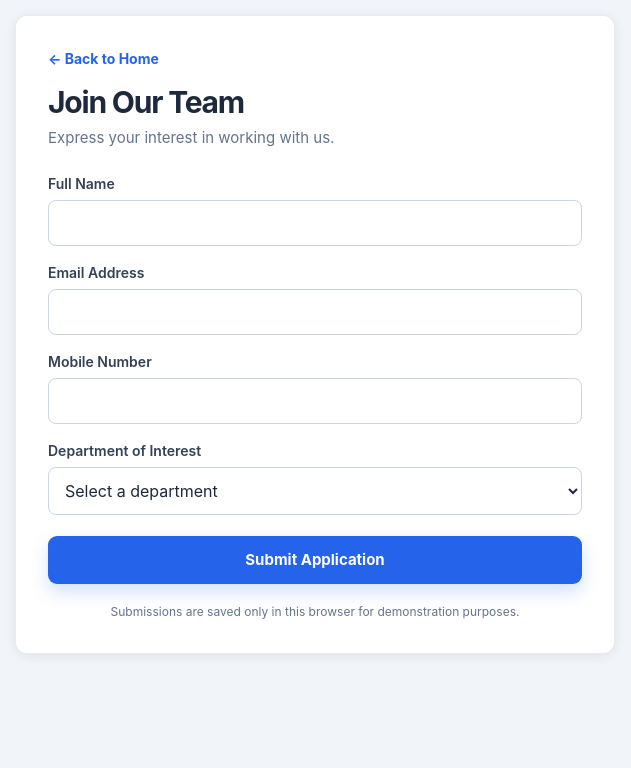
Scenario: candidate interest form › associates required-field errors with each invalid control and retains the draft
Click the button "Submit Application". click: coordinates (315, 560)
box: [48,536,582,584]
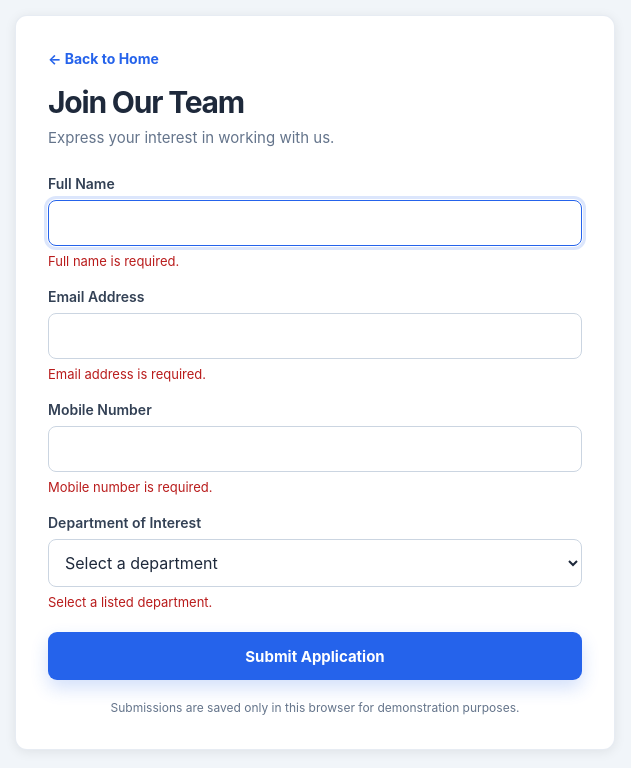
Now the text "Email address is required." is shown, box [48,366,206,382]
Now the text "Mobile number is required." is shown, box [48,479,213,495]
Now the text "Select a listed department." is shown, box [48,594,212,610]
Type "Jordan Lee" into the field labelled "Full Name". click: coordinates (315, 222)
box: [48,200,582,246]
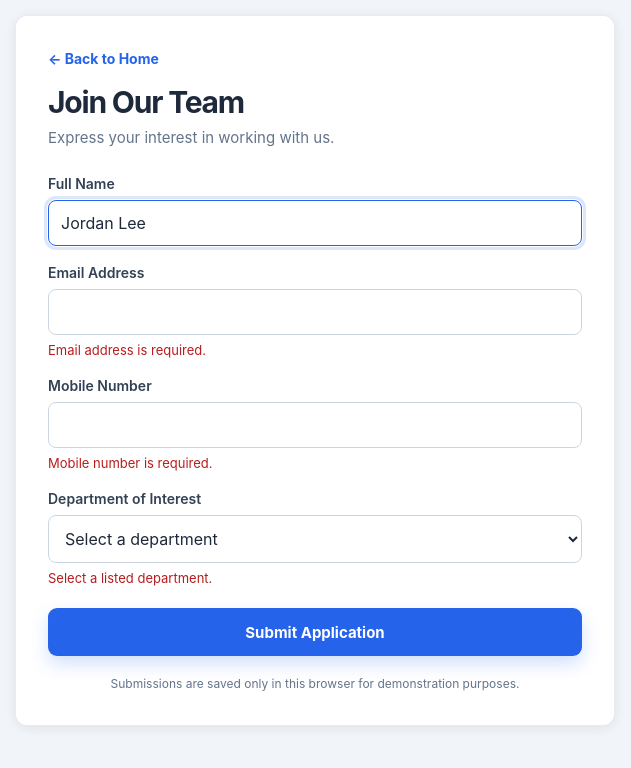
Now the text "Full name is required." is gone
